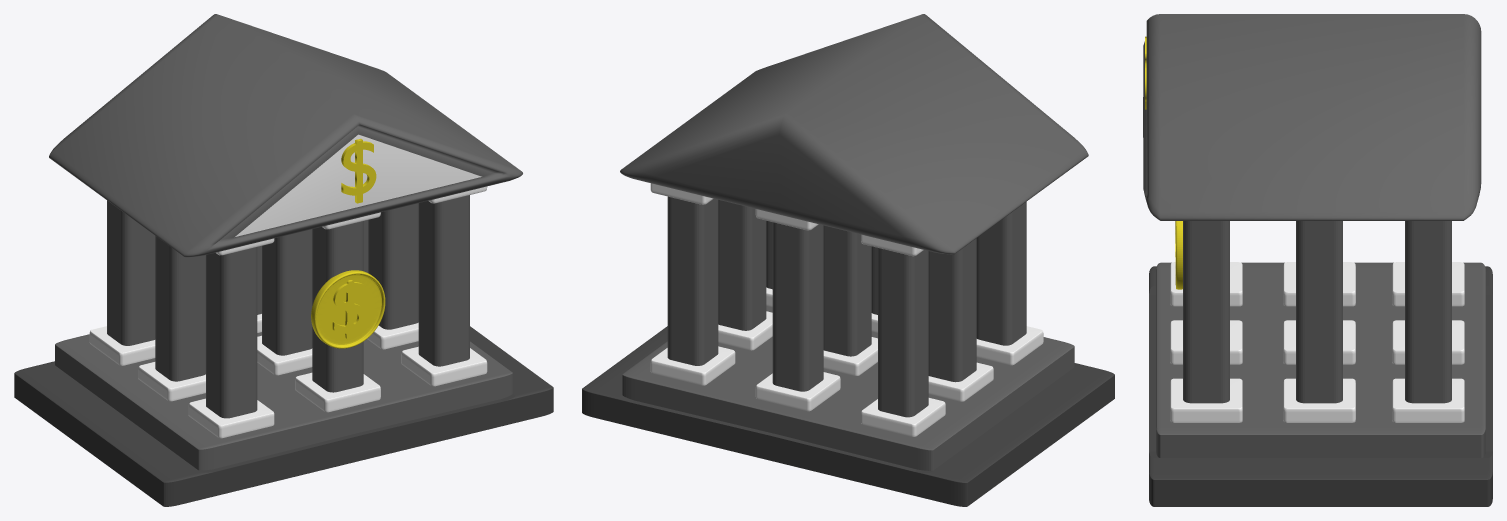
File: uploads_files_3609922_Bank+free+icon.fbx
The picture shows the model from 3 angles, left to right: view 1: azimuth 30°, elevation 25°; view 2: azimuth 150°, elevation 25°; view 3: azimuth 270°, elevation 25°; orthographic projection. The views are drawn at different scales.
Parts seen in each view (by area): view 1: Cube, Cube.002, Cube.001, Cube.003, Cube.004, Circle.001, Text; view 2: Cube, Cube.002, Cube.004, Cube.003, Cube.001; view 3: Cube, Cube.002, Cube.003, Cube.004, Cube.001, Circle.001.
Boxes of the visible parts, x1,y1,x2,y2 form: Cube: (49, 14, 522, 257); Cube.002: (14, 326, 553, 506); Cube.001: (188, 186, 487, 438); Cube.003: (138, 203, 418, 401); Cube.004: (89, 200, 368, 365); Circle.001: (311, 270, 385, 348); Text: (341, 138, 376, 203); Cube: (620, 14, 1088, 254); Cube.002: (582, 306, 1114, 506); Cube.004: (650, 183, 945, 436); Cube.003: (718, 200, 993, 401); Cube.001: (766, 202, 1043, 365); Cube: (1143, 14, 1481, 220); Cube.002: (1149, 262, 1492, 506); Cube.003: (1283, 221, 1355, 422); Cube.004: (1392, 221, 1464, 422); Cube.001: (1170, 221, 1242, 422); Circle.001: (1175, 221, 1182, 289).
Size of the model in its own units: 791 by 667 by 548.
